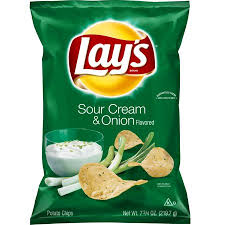lays-med: (32, 1, 192, 220)
